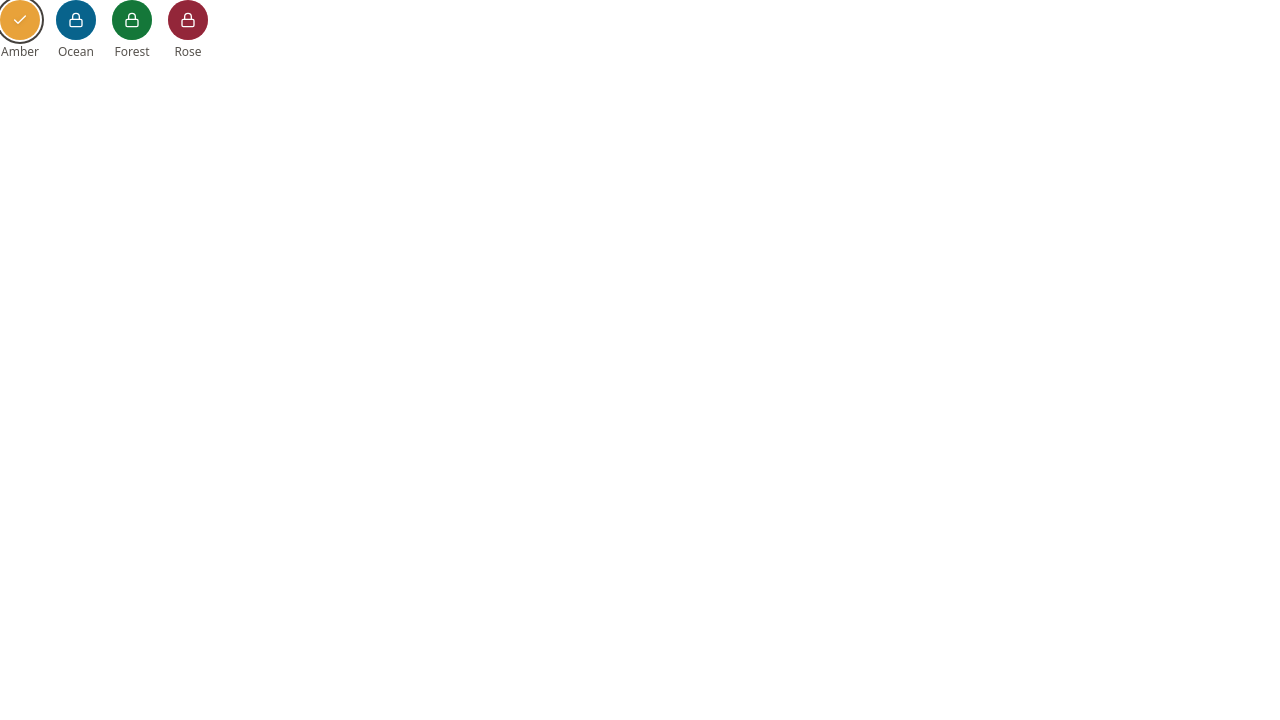
Scenario: ColorSchemePicker › upgrade prompt modal has a close/dismiss button
What coordinates should you click on to do the following:
click the button named "ocean"
I would click on:
 (76, 20)
Its box is [56,0,96,40].
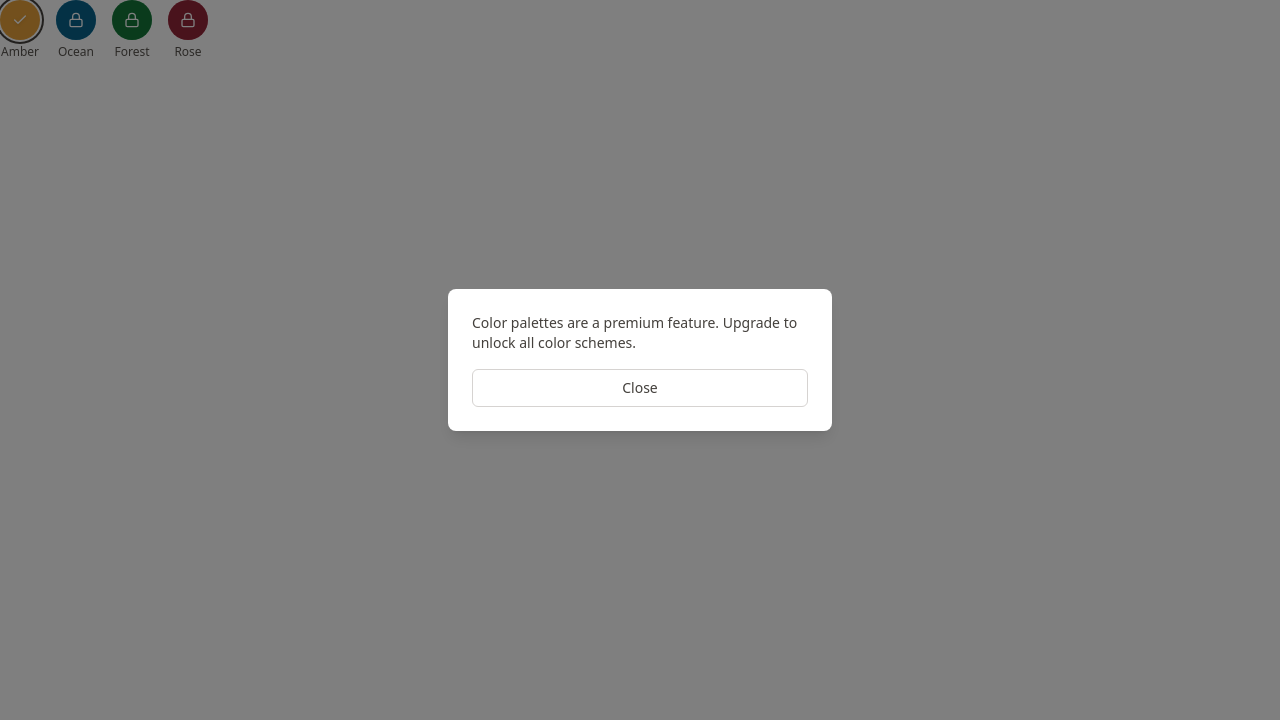
Result: the text "Color palettes are a premium feature" is shown at [472,313,797,352]
What coordinates should you click on to do the following:
click the button "Close"
I would click on:
 (640, 388)
Its box is [472,369,808,407].
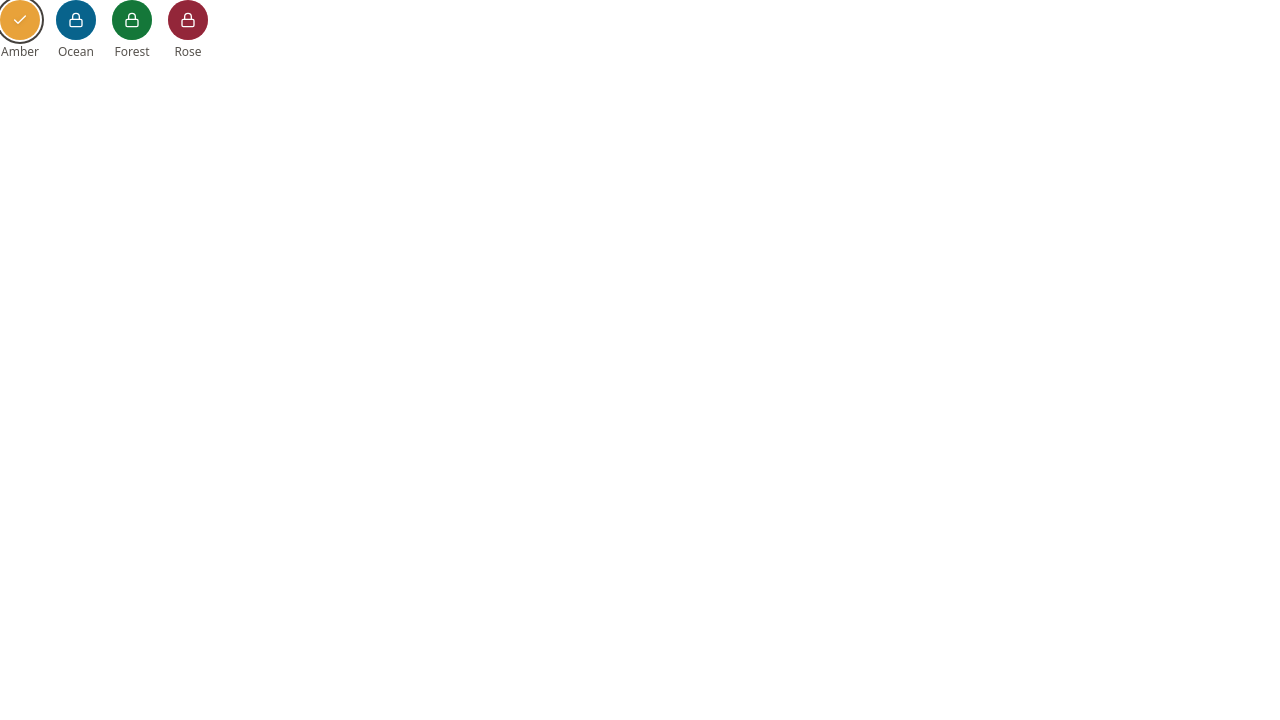
Result: the text "Color palettes are a premium feature" is gone
